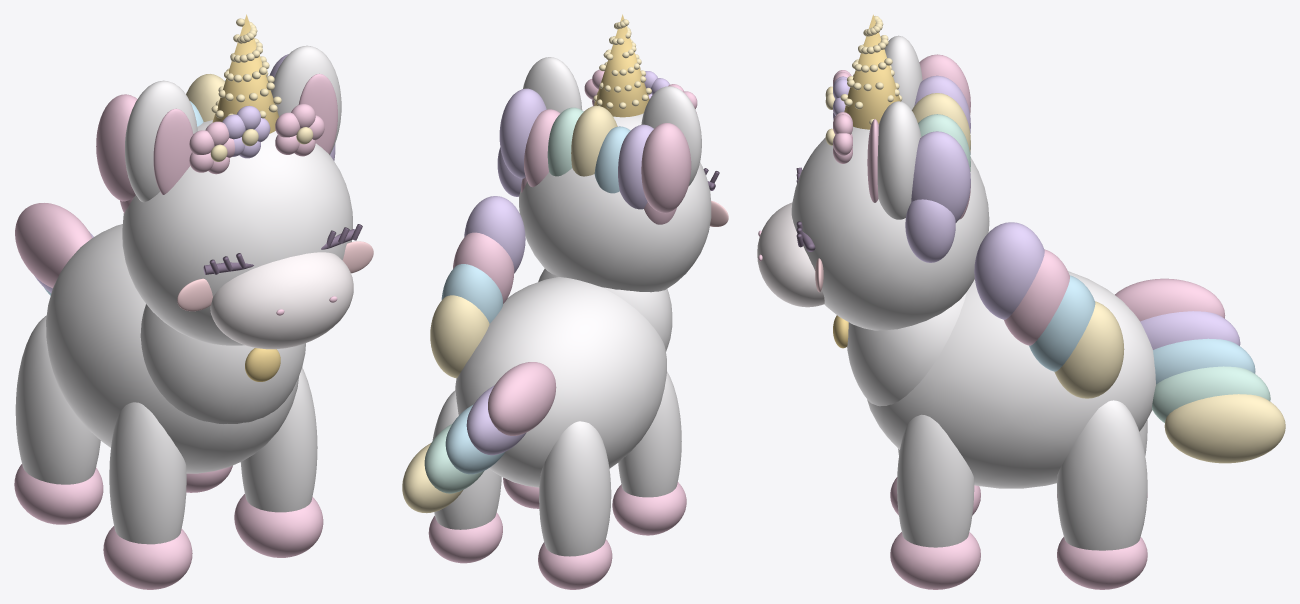
Rendered from unicornio.glb.
3 views of the same model, side by side, from view 1: azimuth 30°, elevation 25°; view 2: azimuth 150°, elevation 25°; view 3: azimuth 270°, elevation 25° (orthographic). The views are drawn at different scales.
Parts seen in each view (by area): view 1: Head, Body, Chest, Muzzle, Left_FrontLeg, Left_BackLeg, Right_FrontLeg, TailLock_0, Left_Ear, Right_FrontHoof, Left_FrontHoof, Left_BackHoof (+12 smaller); view 2: Body, Head, Left_BackLeg, Left_FrontLeg, TailLock_0, ManeLock_0, NeckMane_3, Right_BackLeg, Left_FrontHoof, NeckMane_0, GoldenHorn, ManeLock_6 (+18 smaller); view 3: Body, Head, Right_BackLeg, Right_FrontLeg, TailLock_4, Chest, NeckMane_0, Muzzle, Right_Ear, NeckMane_3, ManeLock_6, Right_FrontHoof (+15 smaller).
Boxes of the visible parts, box(x1,y1,x2,y2) form: Head: box(122, 120, 352, 345); Body: box(46, 224, 298, 473); Chest: box(140, 304, 305, 423); Muzzle: box(210, 252, 353, 349); Left_FrontLeg: box(109, 402, 186, 544); Left_BackLeg: box(15, 315, 100, 484); Right_FrontLeg: box(240, 367, 317, 512); TailLock_0: box(15, 203, 92, 288); Left_Ear: box(125, 80, 197, 202); Right_FrontHoof: box(234, 494, 323, 557); Left_FrontHoof: box(103, 526, 192, 589); Left_BackHoof: box(14, 464, 103, 524); Body: box(455, 277, 666, 487); Head: box(519, 111, 711, 292); Left_BackLeg: box(539, 421, 611, 556); Left_FrontLeg: box(618, 371, 681, 497); TailLock_0: box(488, 362, 556, 435); ManeLock_0: box(641, 123, 691, 213); NeckMane_3: box(430, 295, 489, 378); Right_BackLeg: box(432, 390, 501, 529); Left_FrontHoof: box(612, 482, 686, 535); NeckMane_0: box(464, 196, 525, 273); GoldenHorn: box(594, 14, 649, 117); ManeLock_6: box(499, 88, 546, 178); Body: box(867, 271, 1155, 488); Head: box(791, 126, 989, 330); Right_BackLeg: box(1057, 400, 1147, 550); Right_FrontLeg: box(897, 414, 974, 547); TailLock_4: box(1164, 394, 1285, 463); Chest: box(847, 292, 966, 406); NeckMane_0: box(974, 222, 1044, 319); Muzzle: box(757, 202, 824, 307); Right_Ear: box(877, 101, 921, 219); NeckMane_3: box(1054, 301, 1124, 398); ManeLock_6: box(911, 131, 970, 222); Right_FrontHoof: box(890, 532, 980, 589).
Size of the model in its own units: 1.45 by 3.55 by 3.14.
